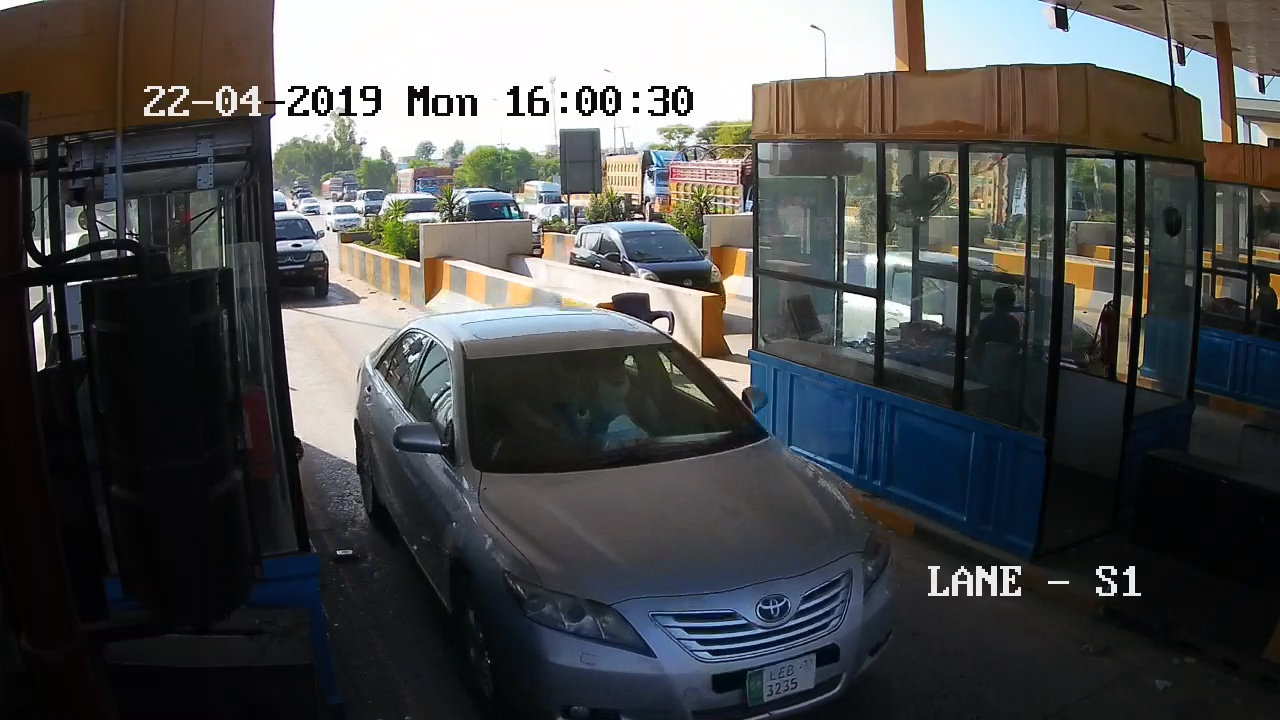car: (347, 307, 901, 717), (264, 204, 343, 313)
